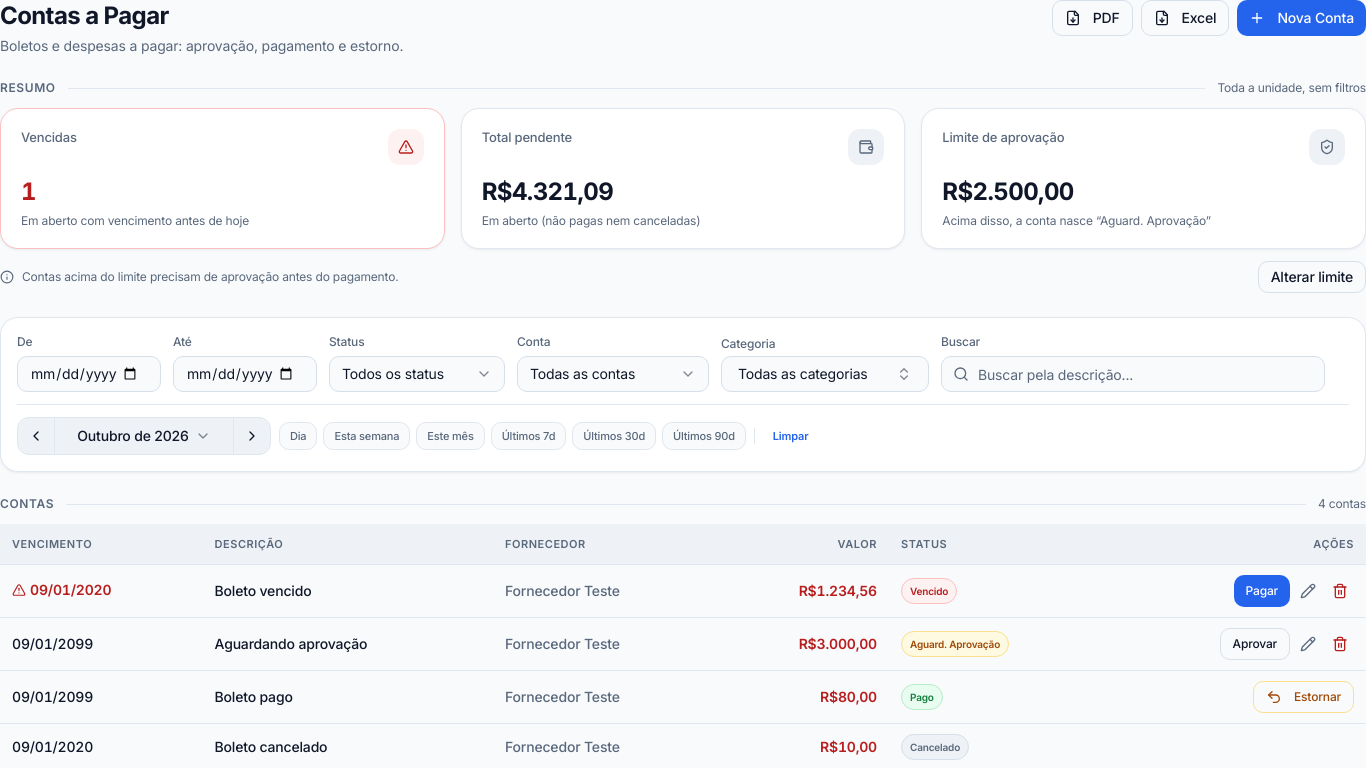
Test: Contas a Pagar (V2) › "Pagar" só abre o diálogo de pagamento (lê a conta do boleto, não grava)
Click the button with aria-label "Pagar Boleto vencido" at (1262, 590), box [1234, 574, 1290, 606]
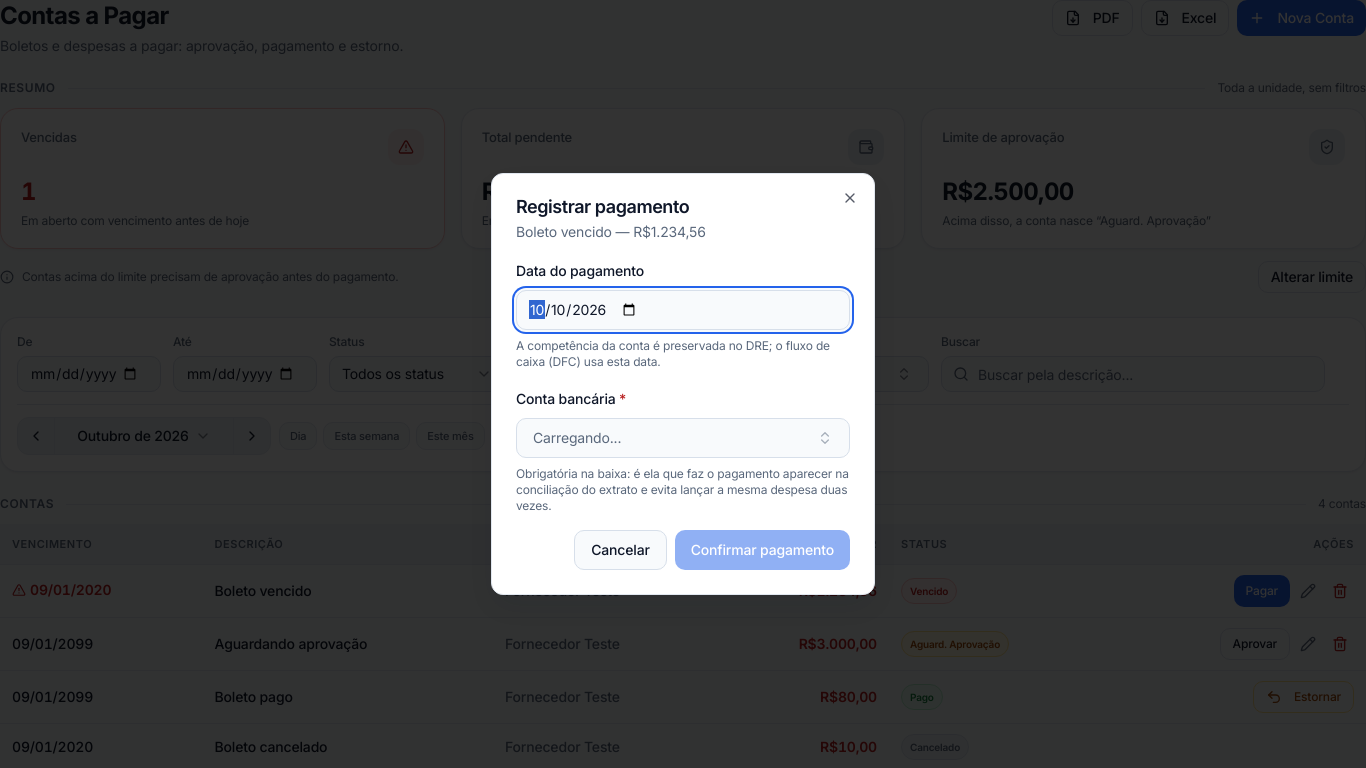
Now the date field labelled "Data do pagamento" is shown, box [516, 290, 850, 330]
Now the button "Confirmar pagamento" is disabled, box [675, 530, 850, 570]
Press Escape in the dialog "Registrar pagamento", box [491, 173, 875, 595]
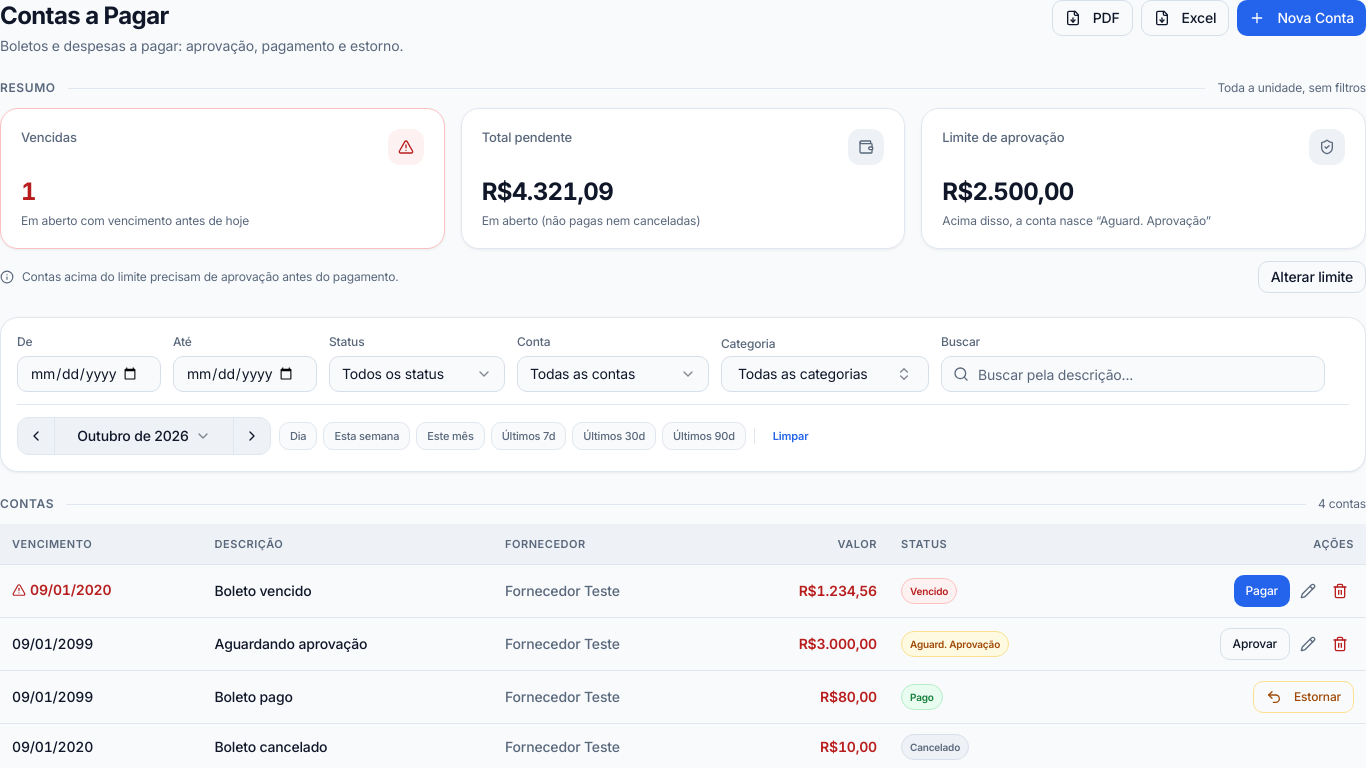
Now the heading "Registrar pagamento" is gone
